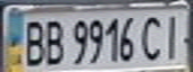1: (103, 15, 121, 63)
6: (118, 14, 142, 63)
9: (66, 16, 90, 65), (87, 16, 106, 65)
B: (18, 16, 48, 68), (39, 16, 69, 68)
C: (139, 11, 169, 62)
I: (157, 11, 190, 61)
